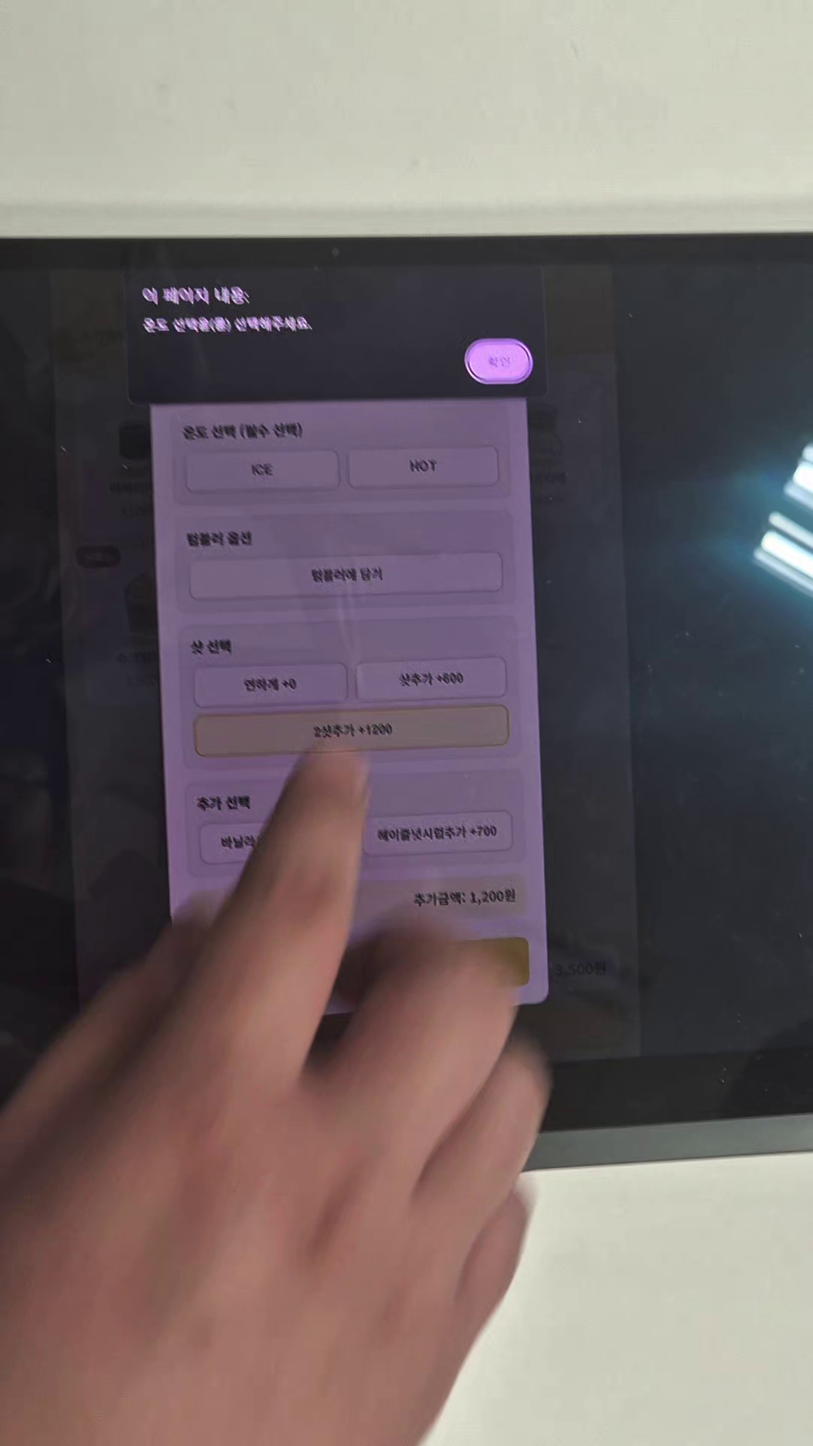option_button: (197, 706, 508, 758), (190, 554, 505, 599), (193, 662, 346, 707), (361, 813, 512, 857), (357, 659, 507, 702), (349, 447, 497, 487), (187, 451, 339, 489), (200, 822, 339, 862)
popup_modal: (150, 399, 551, 1013)
